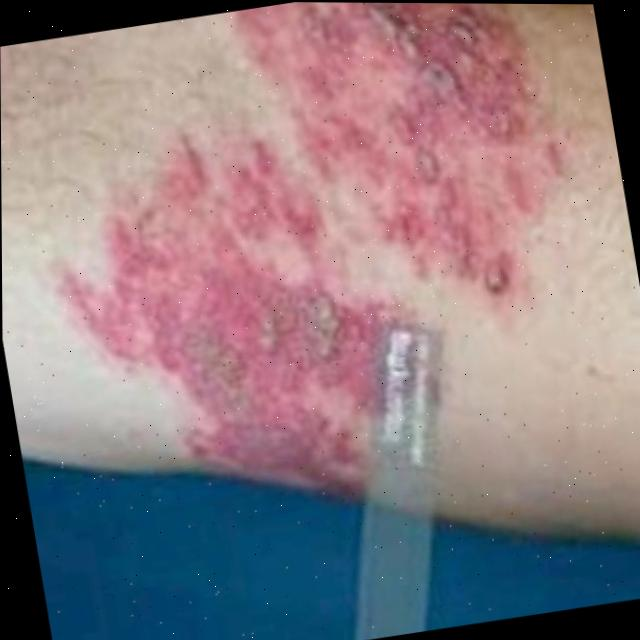Shingles: (254, 2, 582, 311), (109, 170, 363, 500)
